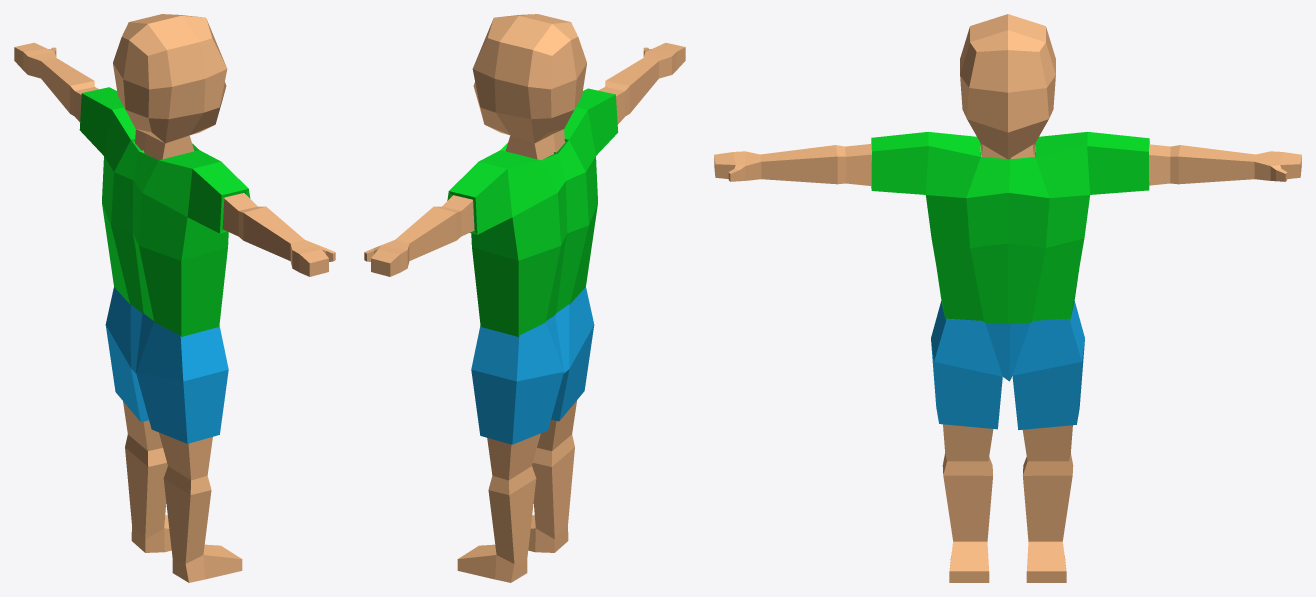
Rendered from low poly man.fbx.
3 views of the same model, side by side, from view 1: azimuth 30°, elevation 25°; view 2: azimuth 150°, elevation 25°; view 3: azimuth 270°, elevation 25° (orthographic).
Visible parts, largest first — view 1: man.002; view 2: man.002; view 3: man.002.
Boxes of the visible parts, x1,y1,x2,y2 form: man.002: (14,14,335,582); man.002: (364,14,685,582); man.002: (714,14,1301,582).
Bounding box in the file's own units: 1023 × 1035 × 206.
